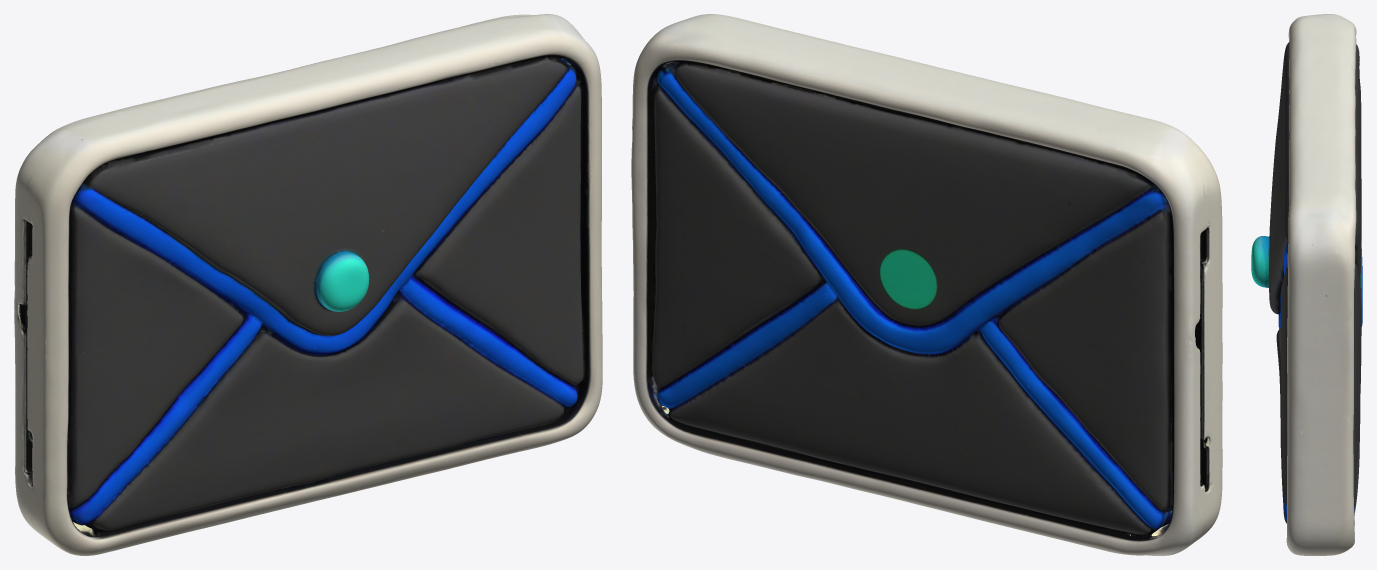
Rendered from Envelope.glb.
The picture shows the model from 3 angles, left to right: view 1: azimuth 30°, elevation 25°; view 2: azimuth 150°, elevation 25°; view 3: azimuth 270°, elevation 25°; orthographic projection. The views are drawn at different scales.
Bounding box in the file's own units: 2 × 1.43 × 0.4133.
1 material, 1 textured.
